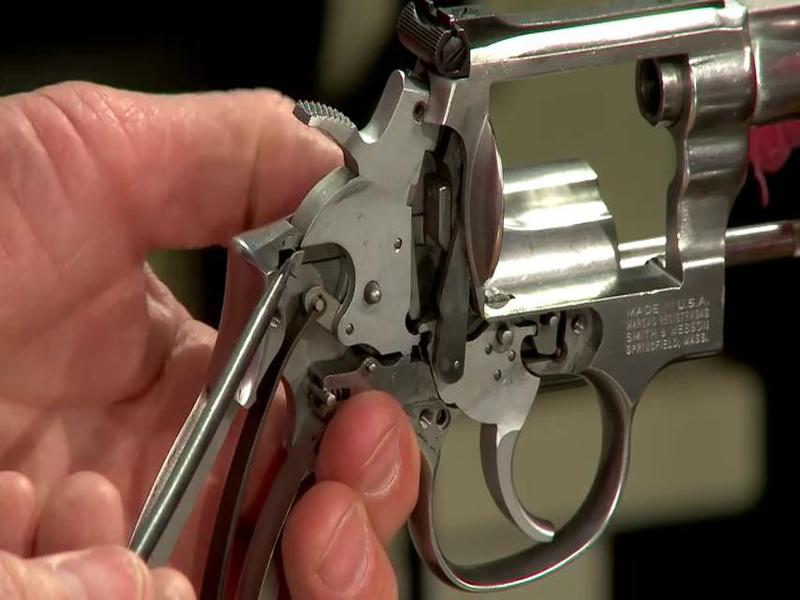Revolver: (108, 1, 778, 574)
